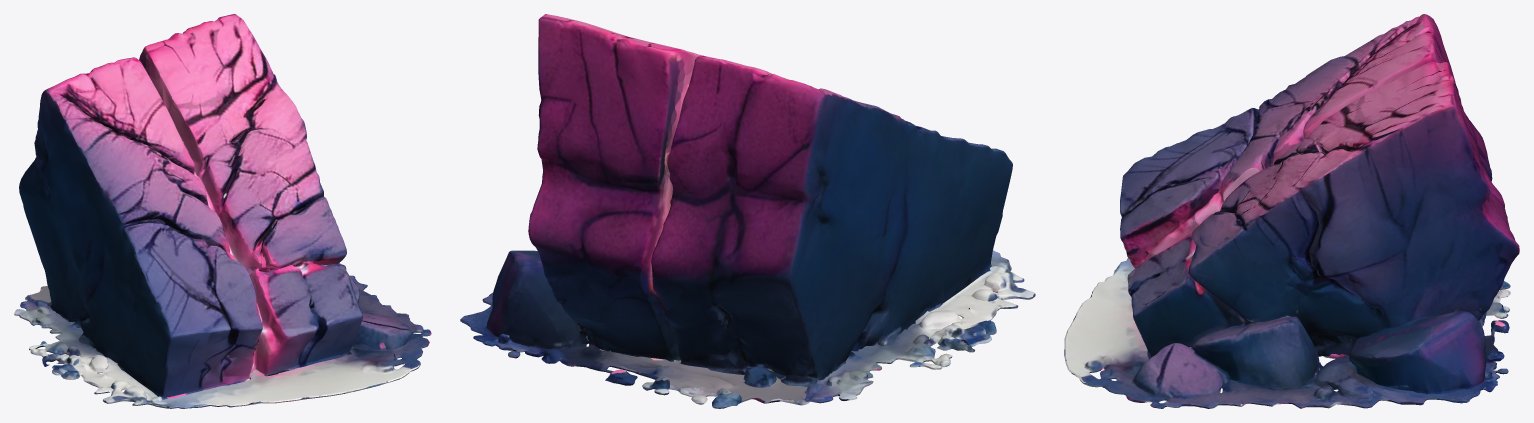
File: shore-stone-2-generated-2026-05-17T19-55-56-822Z.medium.glb
3 views of the same model, side by side, from view 1: azimuth 30°, elevation 25°; view 2: azimuth 150°, elevation 25°; view 3: azimuth 270°, elevation 25° (orthographic). The views are drawn at different scales.
Parts seen in each view (by area): view 1: temp_mesh.ply; view 2: temp_mesh.ply; view 3: temp_mesh.ply.
Part boxes in pixels (left/top/right/bottom): temp_mesh.ply: left=14, top=14, right=431, bottom=408; temp_mesh.ply: left=460, top=14, right=1035, bottom=408; temp_mesh.ply: left=1064, top=14, right=1519, bottom=408.
Size of the model in its own units: 1.83 by 1.3 by 1.97.
Materials: 1 (1 with a texture image).
